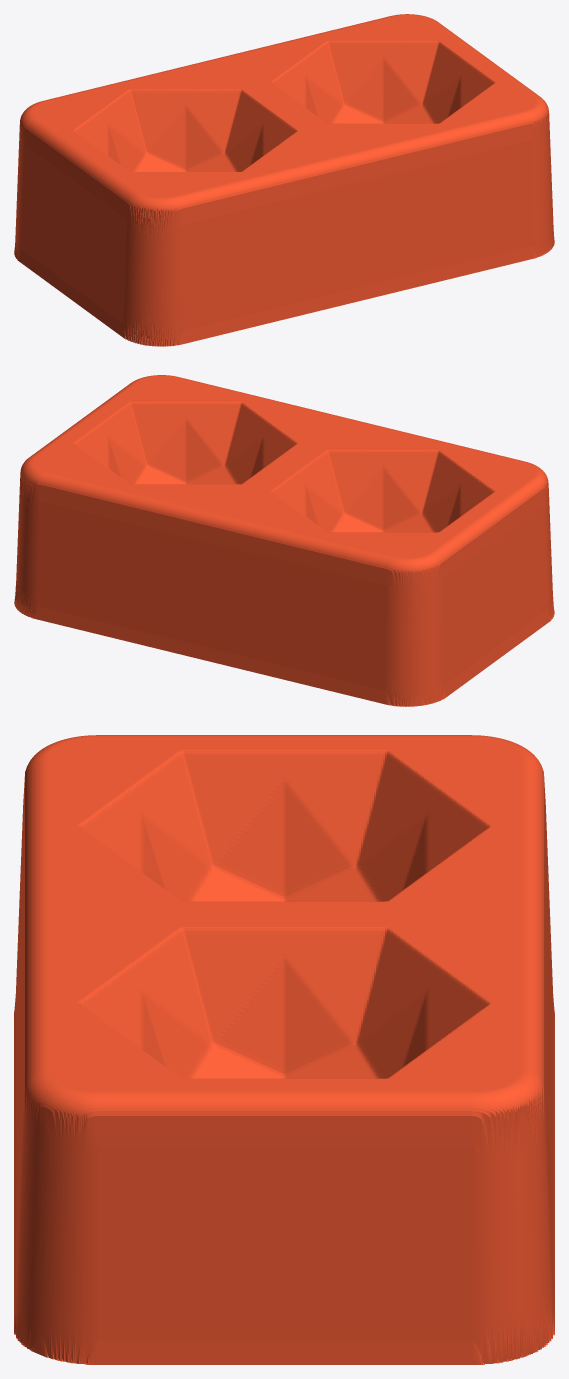
The model's file is mold.glb.
3 views of the same model, one above another, from view 1: azimuth 30°, elevation 25°; view 2: azimuth 150°, elevation 25°; view 3: azimuth 270°, elevation 25° (orthographic). The views are drawn at different scales.
Visible parts, largest first — view 1: geometry_0; view 2: geometry_0; view 3: geometry_0.
Part boxes in pixels (<box>): geometry_0: <box>14,14,554,346</box>; geometry_0: <box>14,375,554,706</box>; geometry_0: <box>14,735,554,1364</box>.
Size of the model in its own units: 0.098 by 0.031 by 0.0586.
